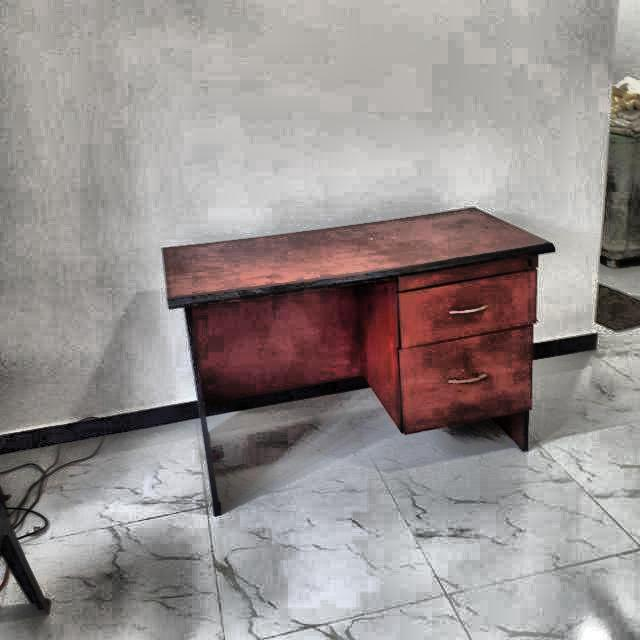mesa: (144, 195, 572, 519)
